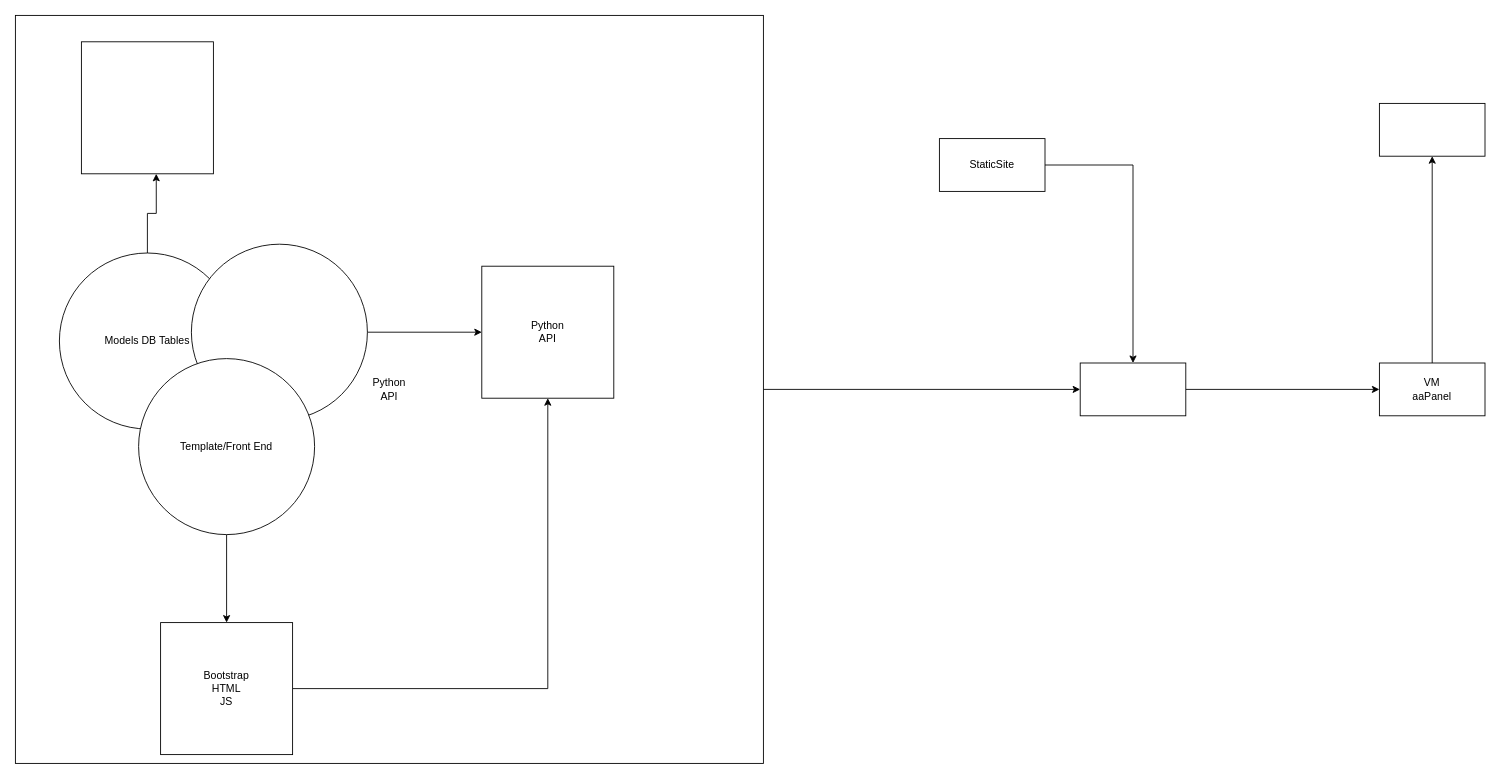
The diagram is 1500 pixels wide and 779 high, and some of its shapes have lost their labels. Here are the shapes that lost their labels. From the top down, the box of each, then its label:
(81, 41, 213, 174): PostgreDB
(1379, 103, 1485, 156): GitHub
(191, 243, 367, 420): Views/Logic
(1079, 362, 1186, 416): CloudFlare
